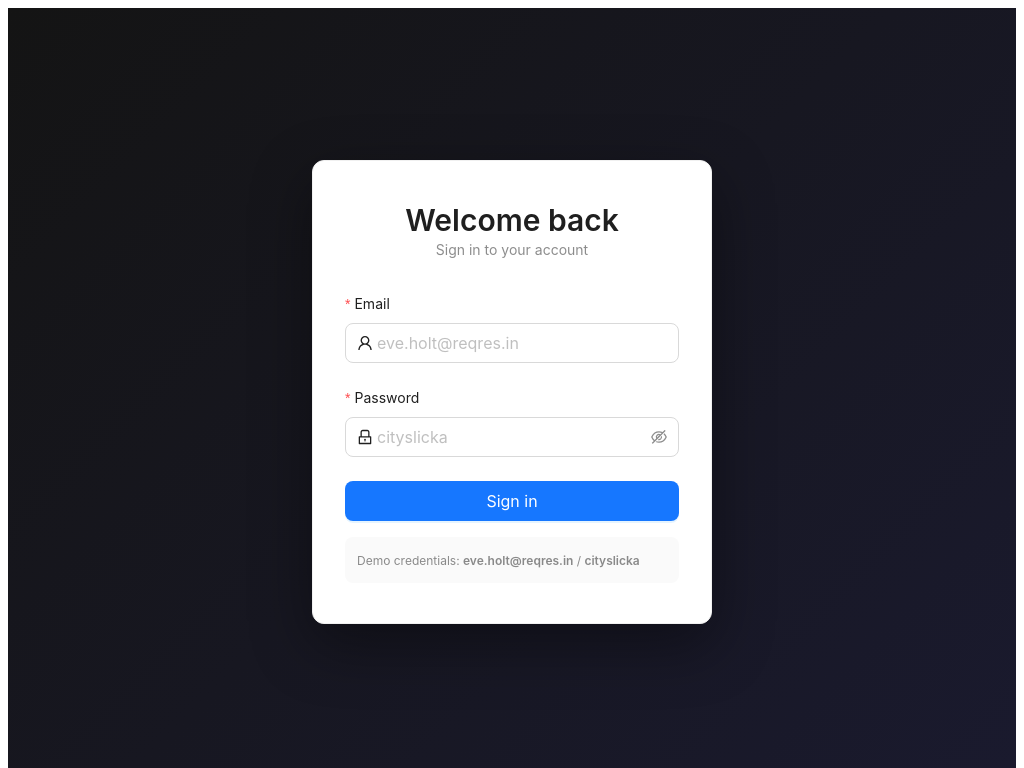
Test case: LoginPage › should show error message on failed login
Type "wrong@email.com" into the field with placeholder "eve.holt@reqres.in" at (522, 343), box x1=377 y1=331 x2=667 y2=355
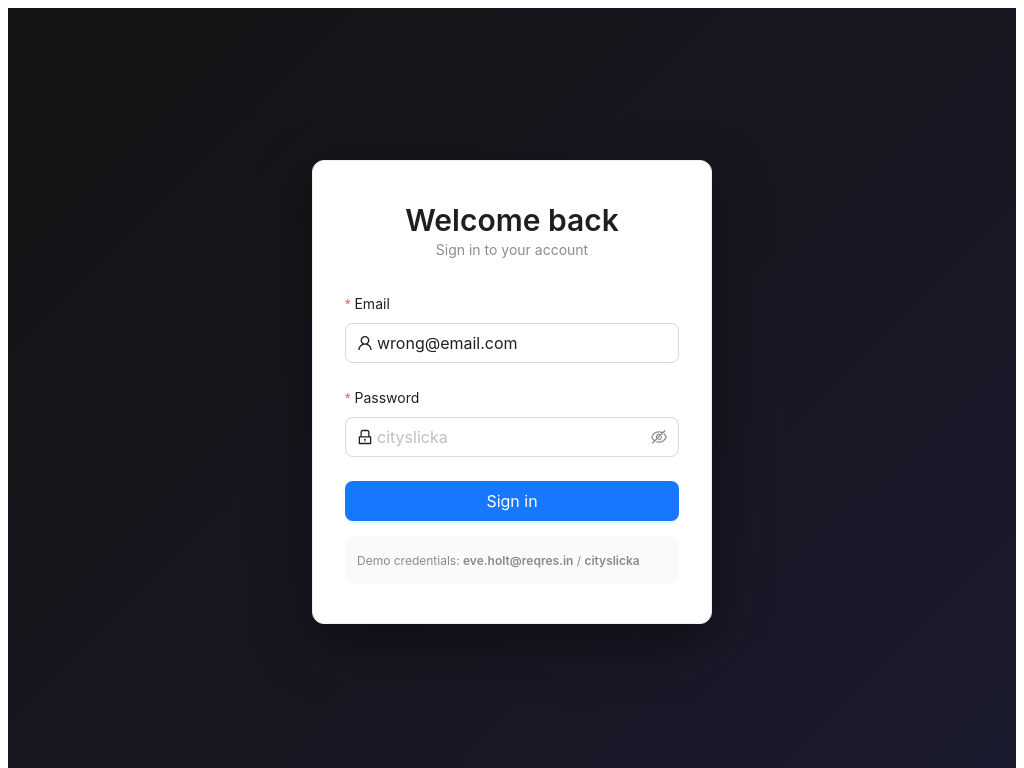
Type "wrongpassword" into the password field with placeholder "cityslicka" at (512, 437), box x1=377 y1=425 x2=647 y2=449
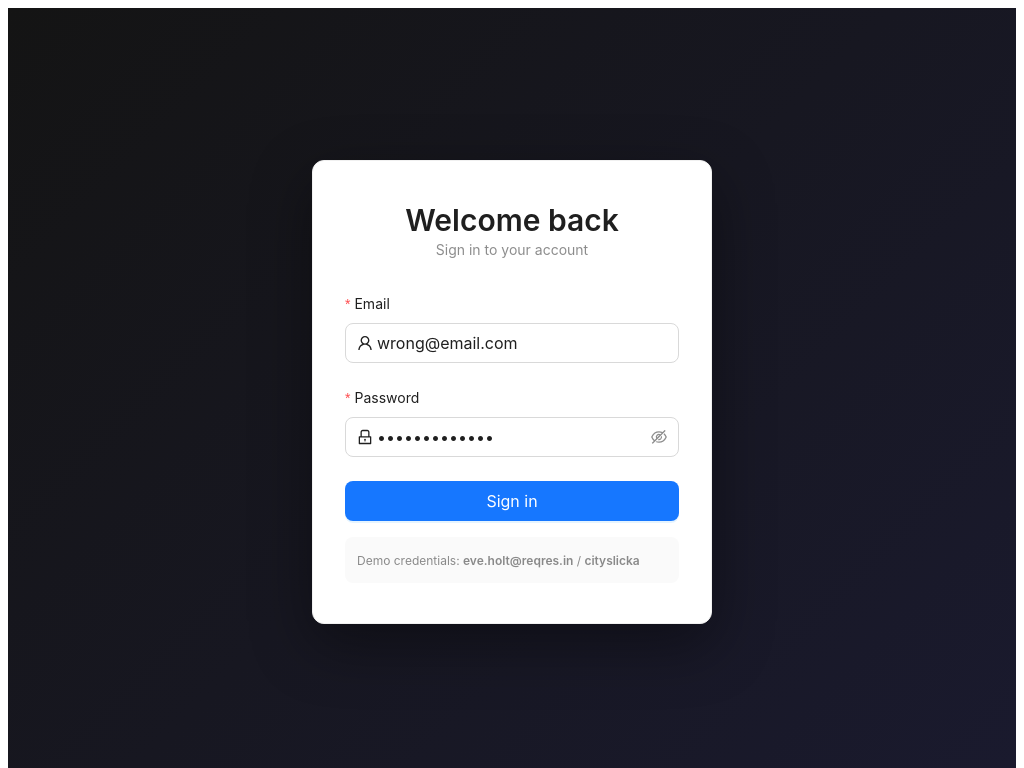
Click the button "Sign in" at (512, 501), box x1=345 y1=481 x2=679 y2=521
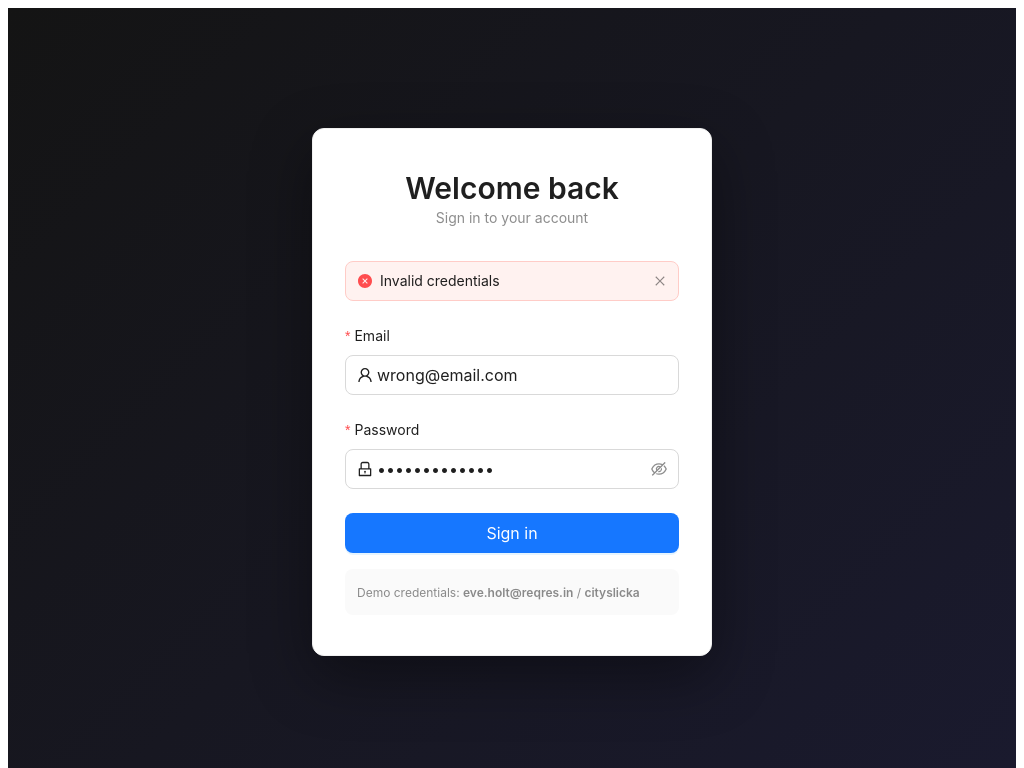
Expected: the text "Invalid credentials" is shown, x1=380 y1=272 x2=500 y2=289
